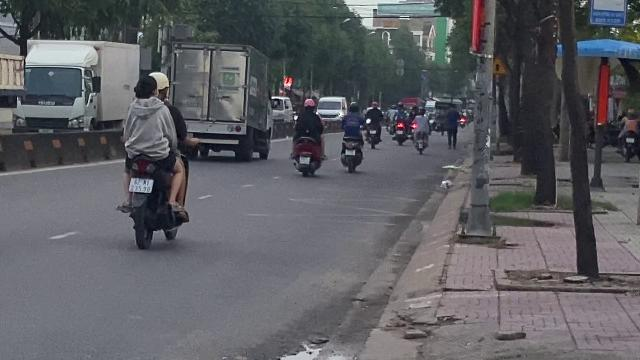helmet: (148, 72, 170, 100)
licenseplate: (130, 178, 152, 192)
motorcyclist: (114, 70, 194, 248)
nohelmet: (131, 74, 157, 100)
